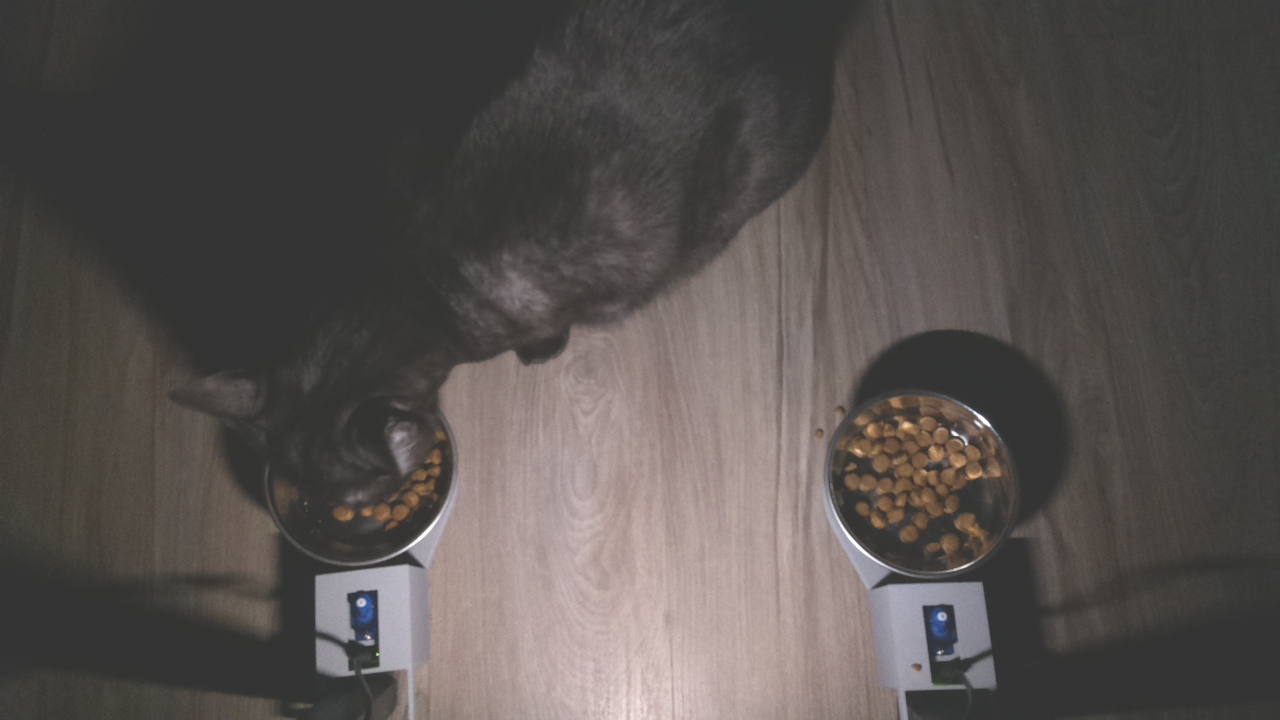open_bowl: (811, 383, 1019, 578)
saki_eating: (157, 280, 469, 585)
